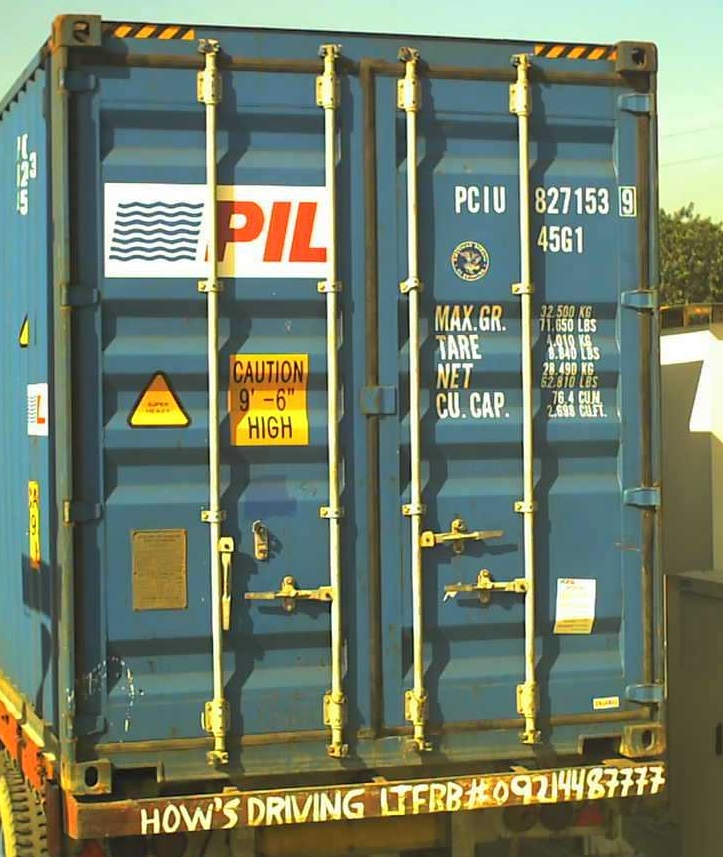container_door: (55, 7, 667, 802)
